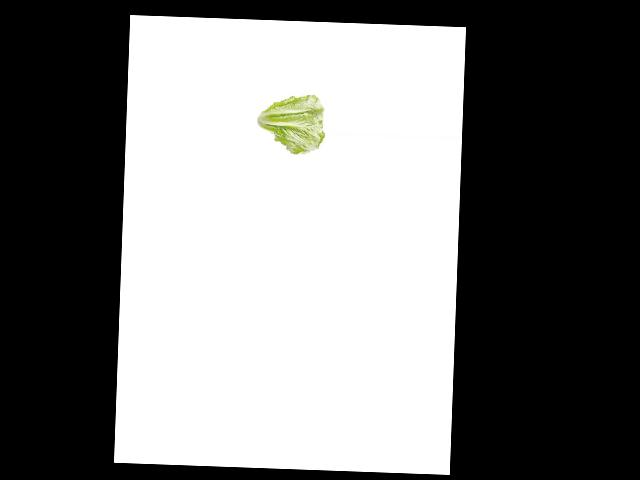lettuce: (252, 95, 327, 157)
